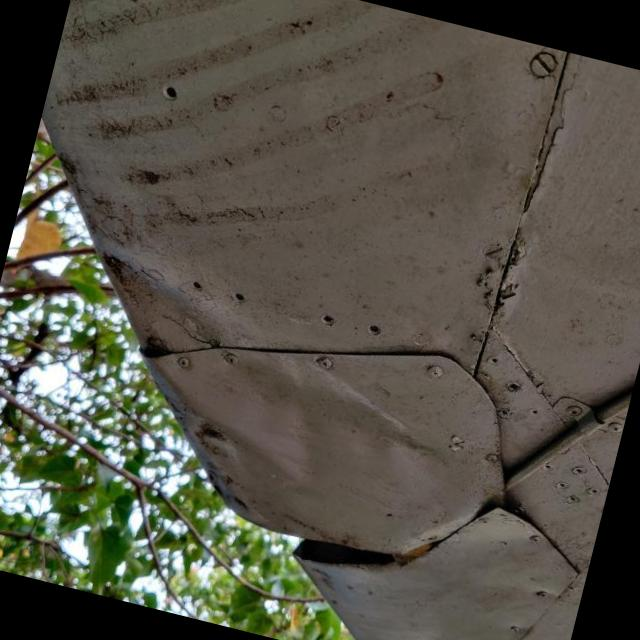Dent: (148, 348, 480, 553)
